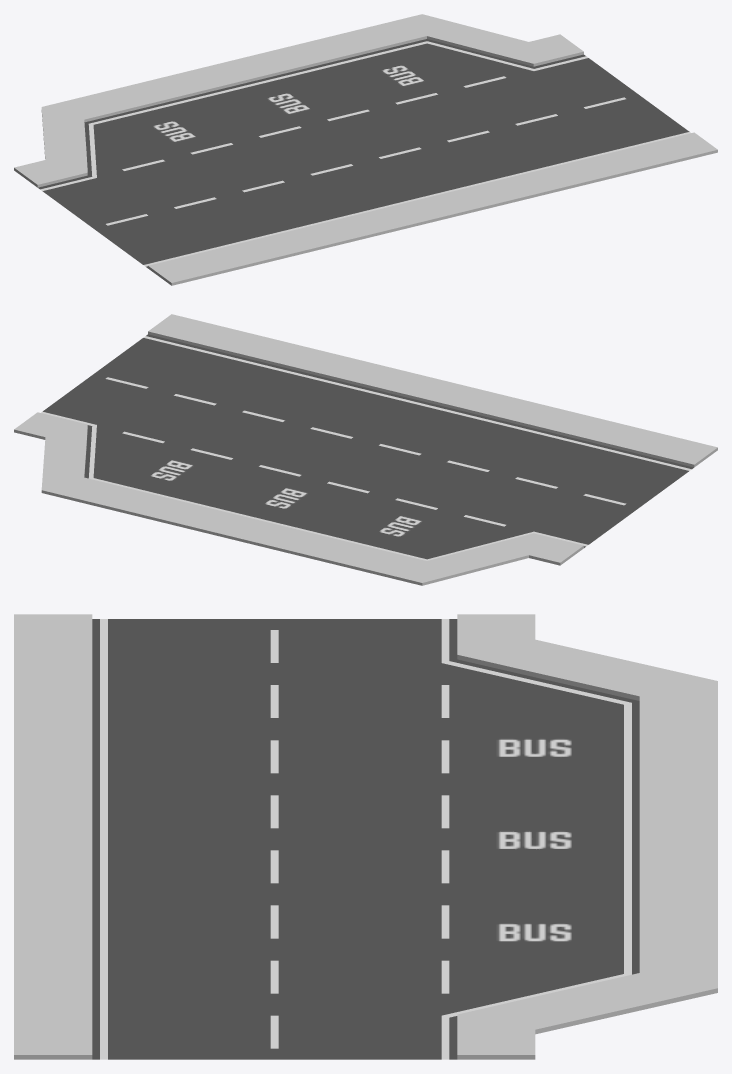
File: SPW_Urban_Road 2way_Bus Lane.gltf
3 views of the same model, one above another, from view 1: azimuth 30°, elevation 25°; view 2: azimuth 150°, elevation 25°; view 3: azimuth 270°, elevation 25° (orthographic). The views are drawn at different scales.
Parts seen in each view (by area): view 1: SPW_Urban_Road_2way_Bus_Lane; view 2: SPW_Urban_Road_2way_Bus_Lane; view 3: SPW_Urban_Road_2way_Bus_Lane.
Part boxes in pixels (<box>): SPW_Urban_Road_2way_Bus_Lane: <box>14,14,717,285</box>; SPW_Urban_Road_2way_Bus_Lane: <box>14,314,717,585</box>; SPW_Urban_Road_2way_Bus_Lane: <box>14,614,717,1059</box>.
Bounding box in the file's own units: 1575 × 7.87 × 1063.
Materials: 1 (1 with a texture image).
